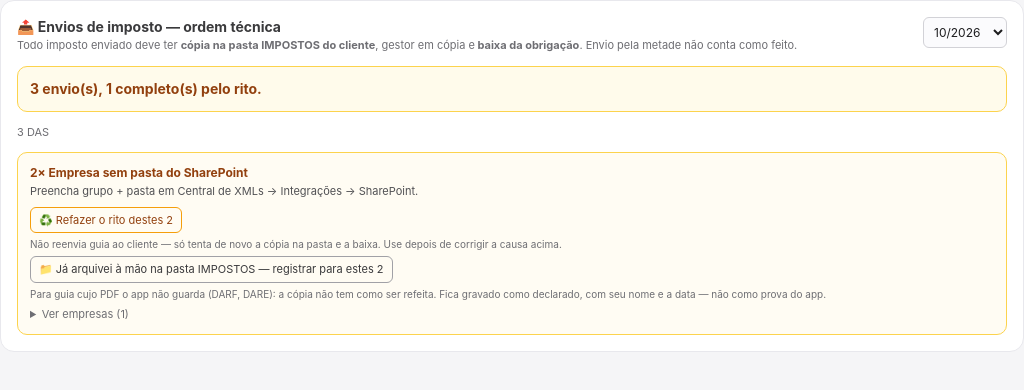
Test case: o resultado DIZ o que não deu › falha e PDF ausente aparecem, não somem
This screenshot has width=1024, height=390.
Click the button "♻️ Refazer o rito destes 2" at (106, 220), box top-left (30, 206), bottom-right (182, 233)
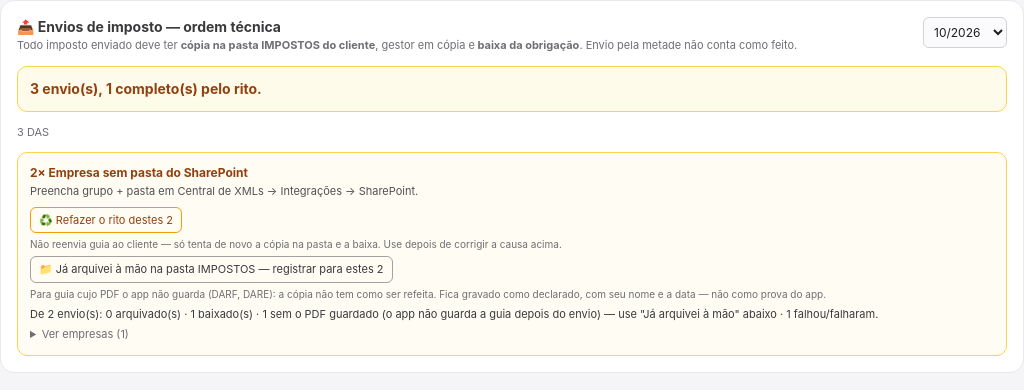
Expected: the text "1 sem o PDF guardado" is shown, top-left (30, 306), bottom-right (878, 320)
Expected: the text "1 falhou" is shown, top-left (30, 306), bottom-right (878, 320)
